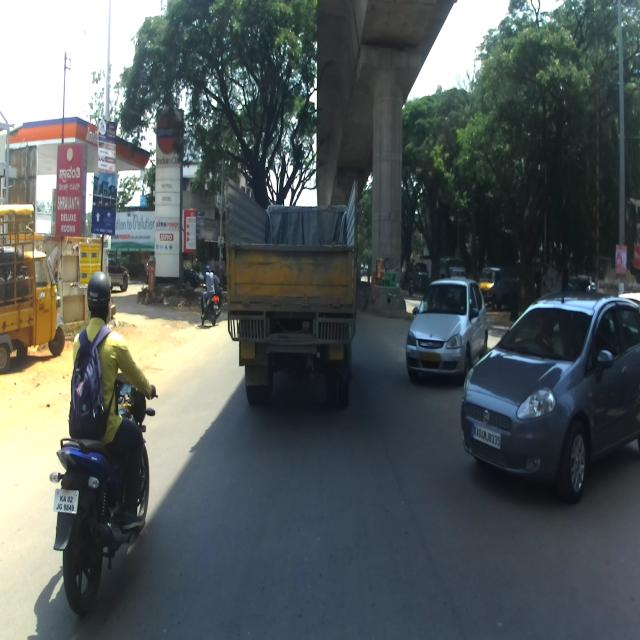auto ahead at: (1, 242, 66, 369)
car ahead at: (467, 297, 640, 490), (403, 271, 488, 377)
motorcycle ahead at: (56, 405, 151, 612)
truck ahead at: (222, 172, 358, 408)
